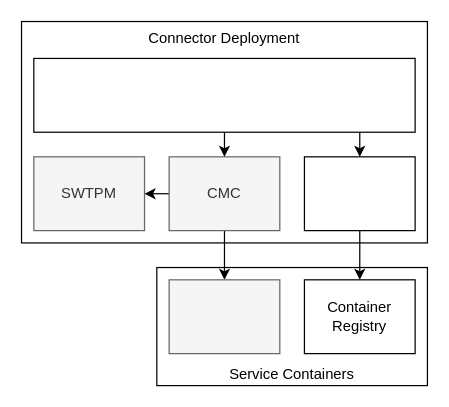
The diagram is 449 pixels wide and 407 high, and some of its shapes have lost their labels. Each missing label, with the centre of its shape:
Docker: pixel 359 193
EST Server: pixel 224 316
GLUE Connector: pixel 224 94
